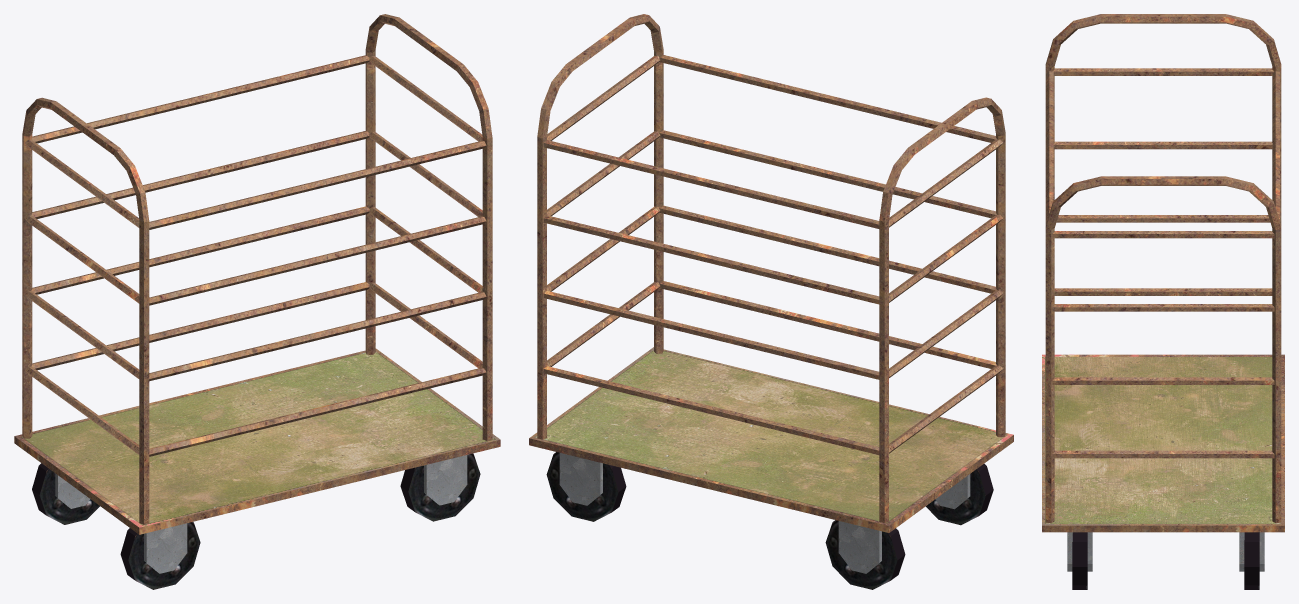
The model's file is mtrans5.fbx.
The picture shows the model from 3 angles, left to right: view 1: azimuth 30°, elevation 25°; view 2: azimuth 150°, elevation 25°; view 3: azimuth 270°, elevation 25°; orthographic projection. The views are drawn at different scales.
Parts seen in each view (by area): view 1: mtrans5_Layer1; view 2: mtrans5_Layer1; view 3: mtrans5_Layer1.
Part boxes in pixels (x1,y1,x2,y2): mtrans5_Layer1: (14,14,500,589); mtrans5_Layer1: (529,14,1013,589); mtrans5_Layer1: (1042,14,1284,589).
Size of the model in its own units: 160 by 184 by 96.
1 material, 1 textured.
